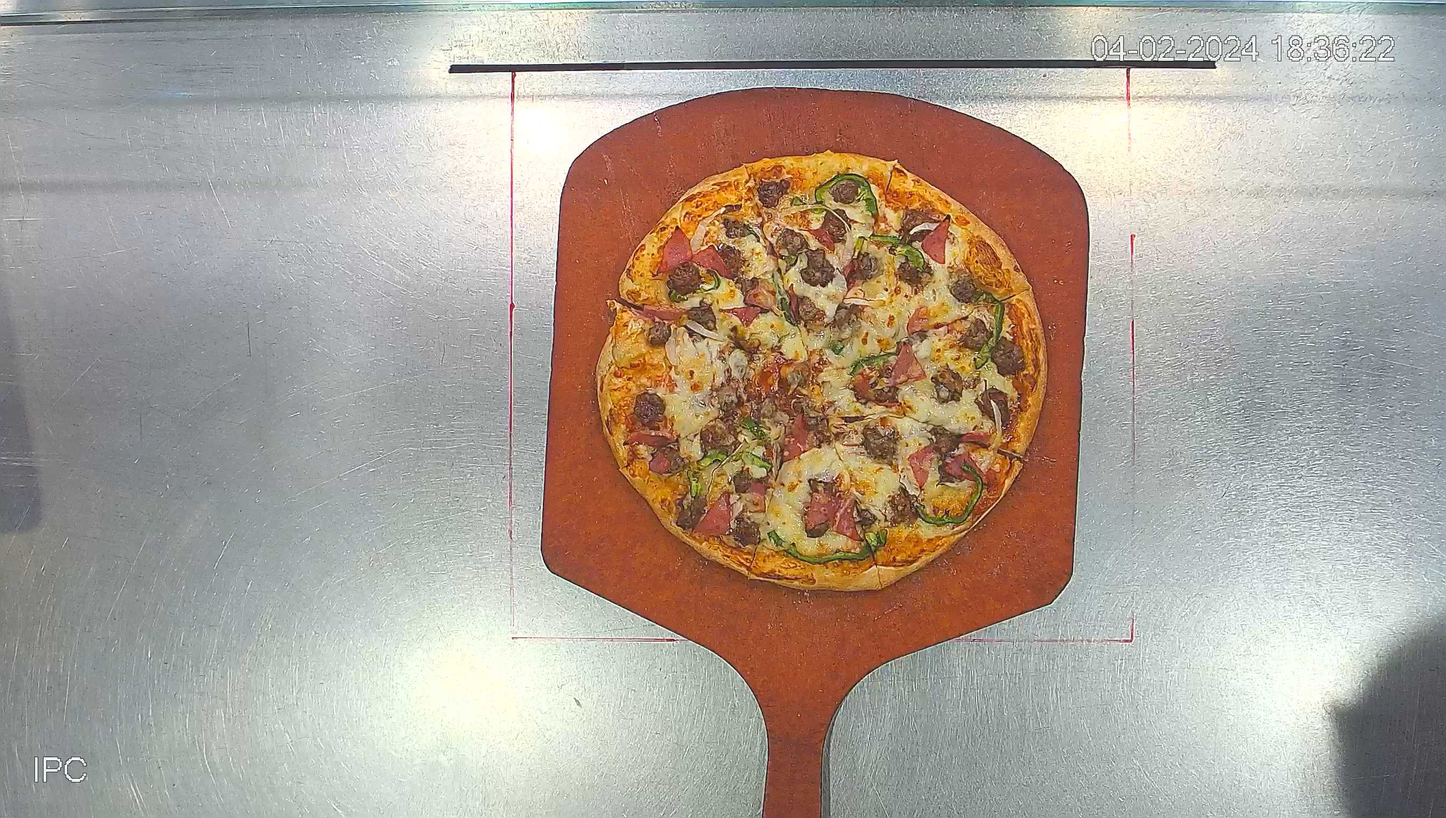hawaiian: (596, 148, 1049, 592)
